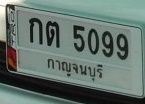txt01: (27, 16, 44, 45)
txt16: (44, 19, 61, 49)
